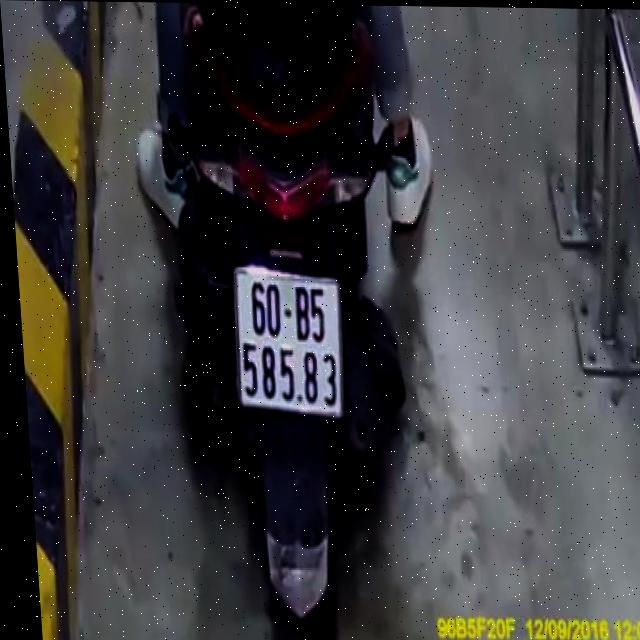motorcycle: (156, 8, 441, 640)
plate: (223, 259, 361, 423)
